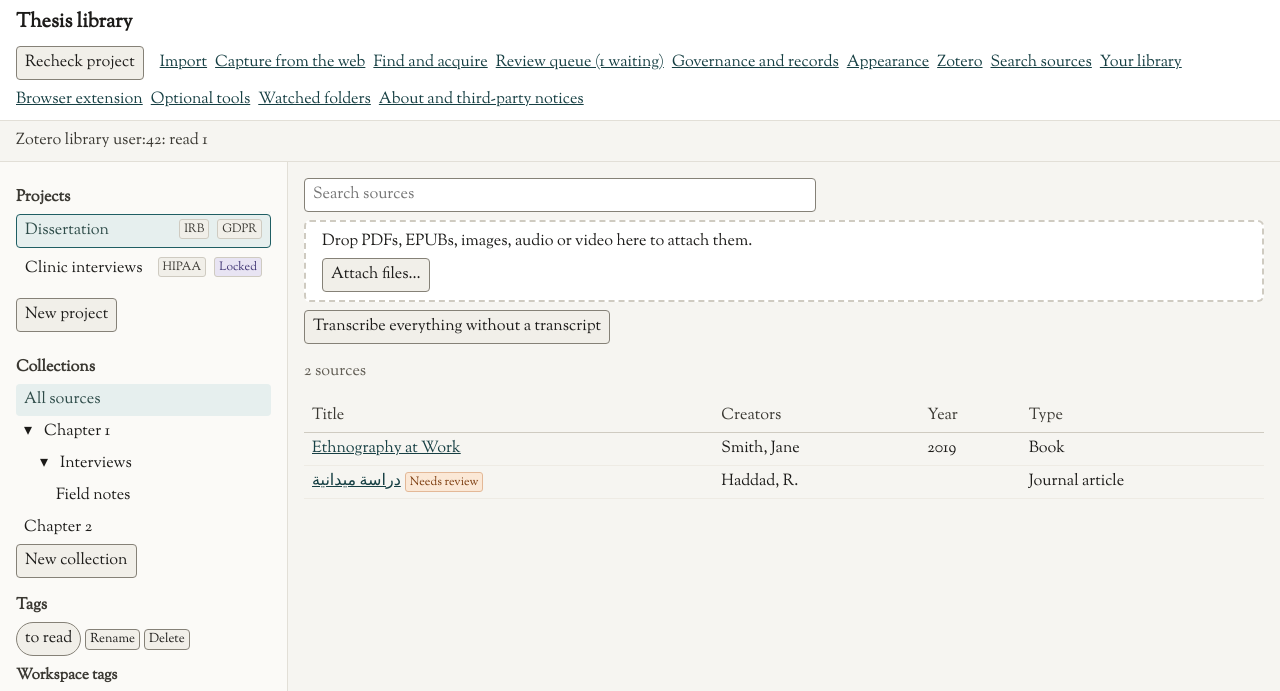
it: Library: the Zotero lines › the generation guard alone: a slow answer started before the project was left, and come back to, is dropped
Expected: the button "Dissertation IRB GDPR" is shown, [16, 214, 271, 248]
Expected: the element with test id "zotero-lines" shows "read 1", [169, 129, 208, 152]
Click the button "Clinic interviews HIPAA Locked" at (144, 269), box [16, 252, 271, 286]
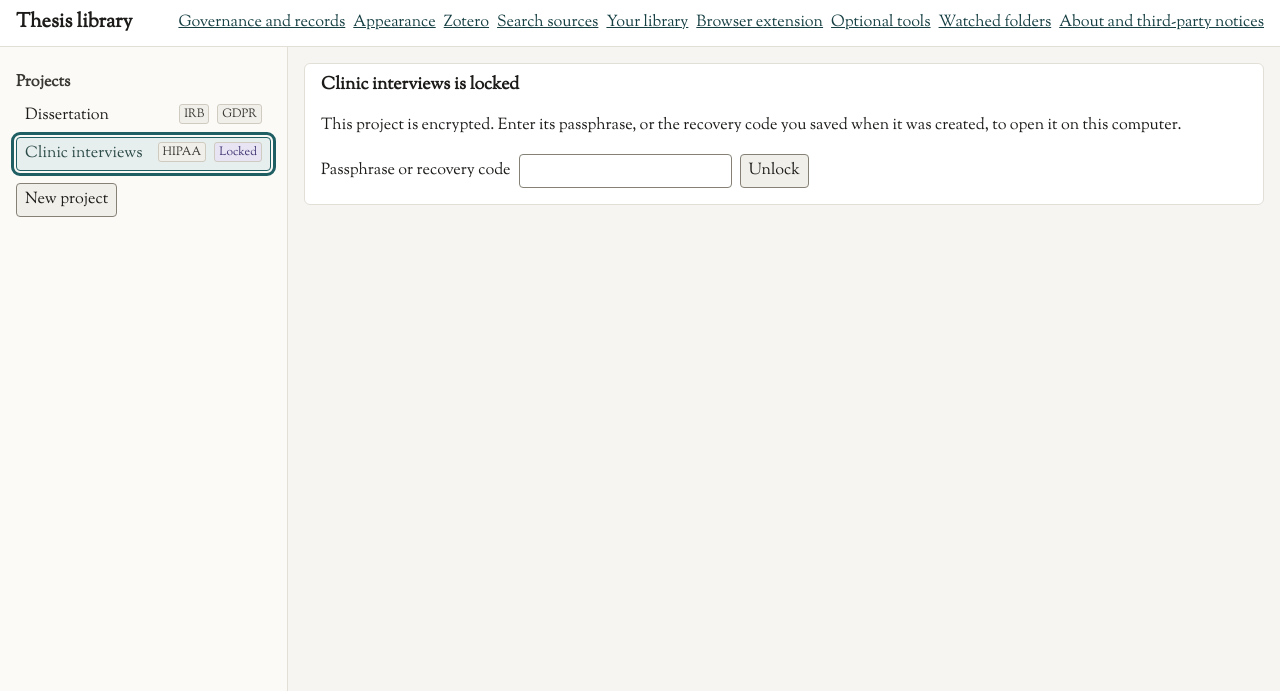
Click the button "Dissertation IRB GDPR" at (144, 116), box [16, 99, 271, 133]
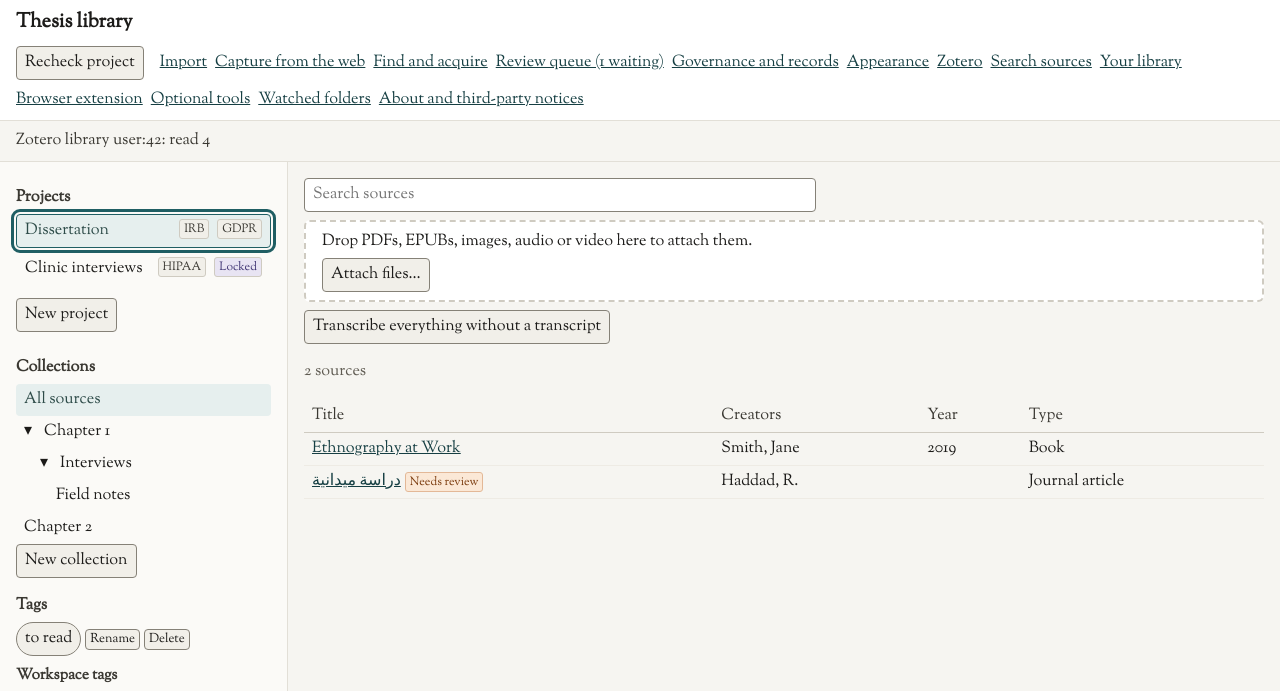
Expected: the element with test id "zotero-lines" shows "read 4", [169, 129, 210, 152]
